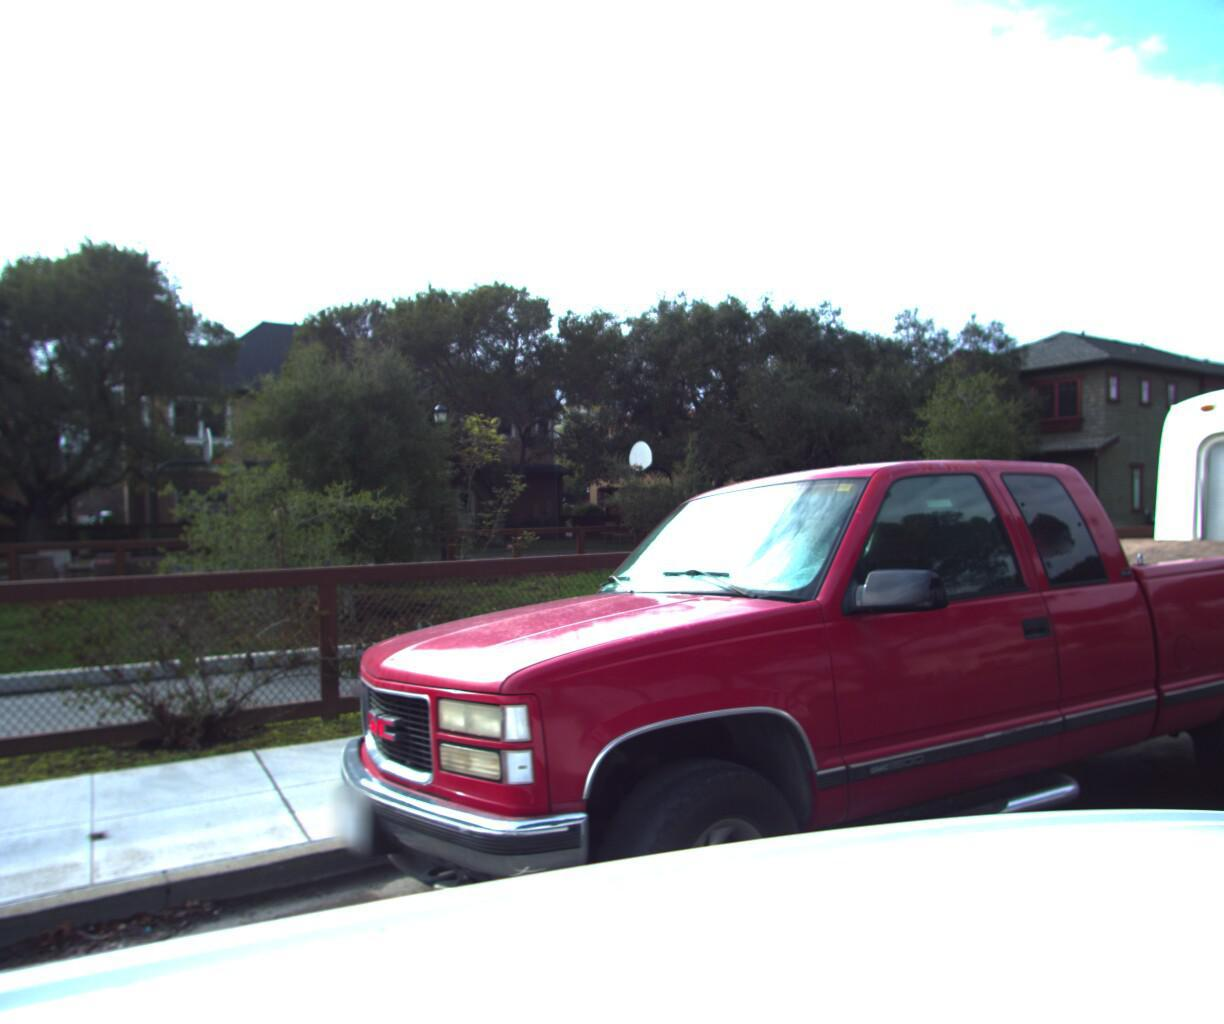car: (273, 423, 1224, 1024)
other_vehicle: (1067, 239, 1224, 783)
